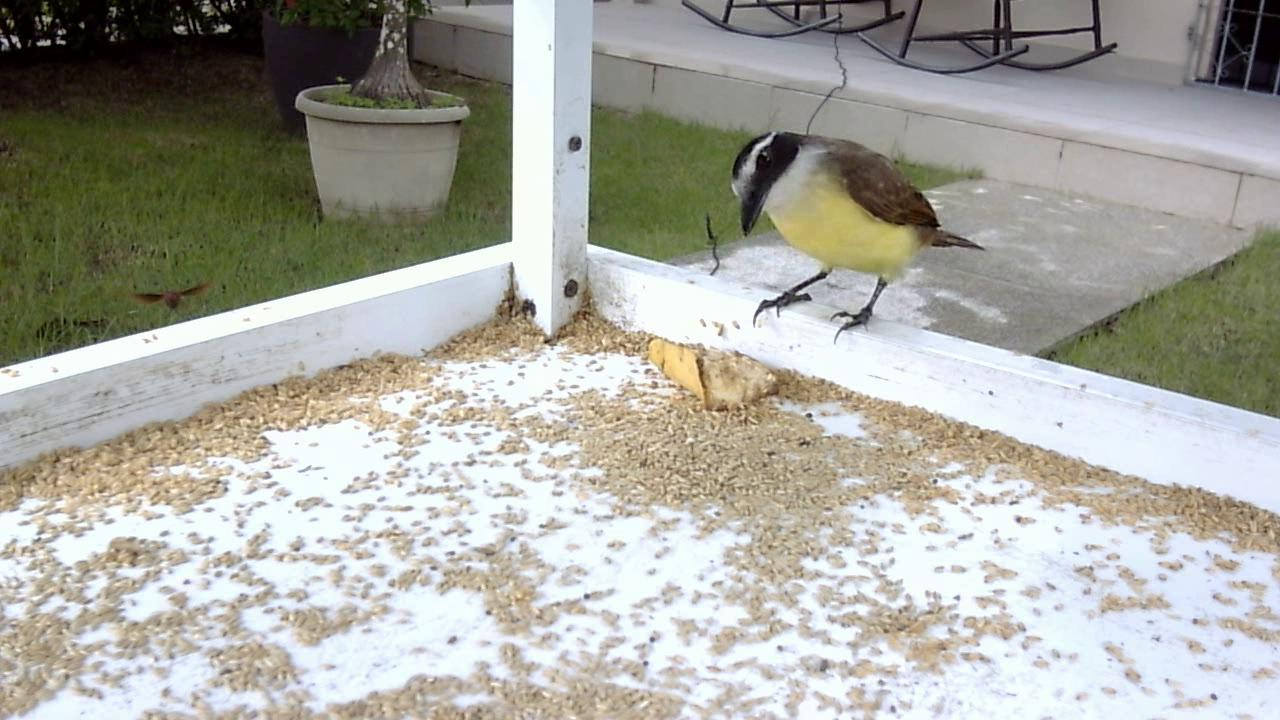bem_te_vi: (714, 108, 1000, 360)
